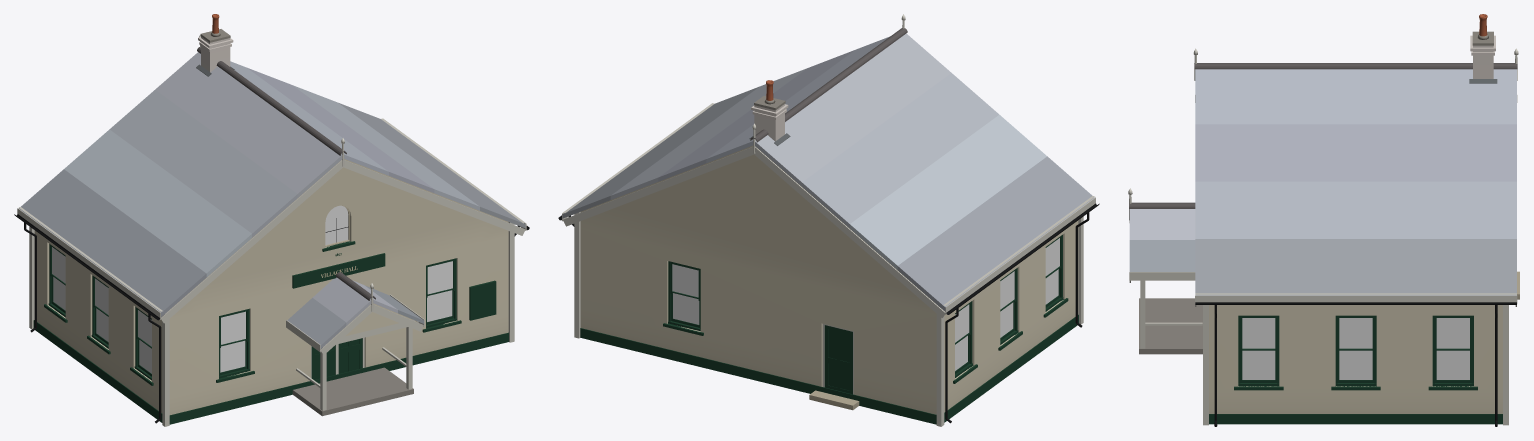
File: town_village_hall_a_lod1.glb
3 renders of one model, left to right at view 1: azimuth 30°, elevation 25°; view 2: azimuth 150°, elevation 25°; view 3: azimuth 270°, elevation 25°, orthographic. The views are drawn at different scales.
Parts seen in each view (by area): view 1: body; view 2: body; view 3: body.
Part boxes in pixels (x1,y1,x2,y2): body: (14,14,529,426); body: (558,14,1099,426); body: (1128,14,1519,426).
Size of what is drawn, in the model's own units: 12.99 by 9.24 by 10.47.
